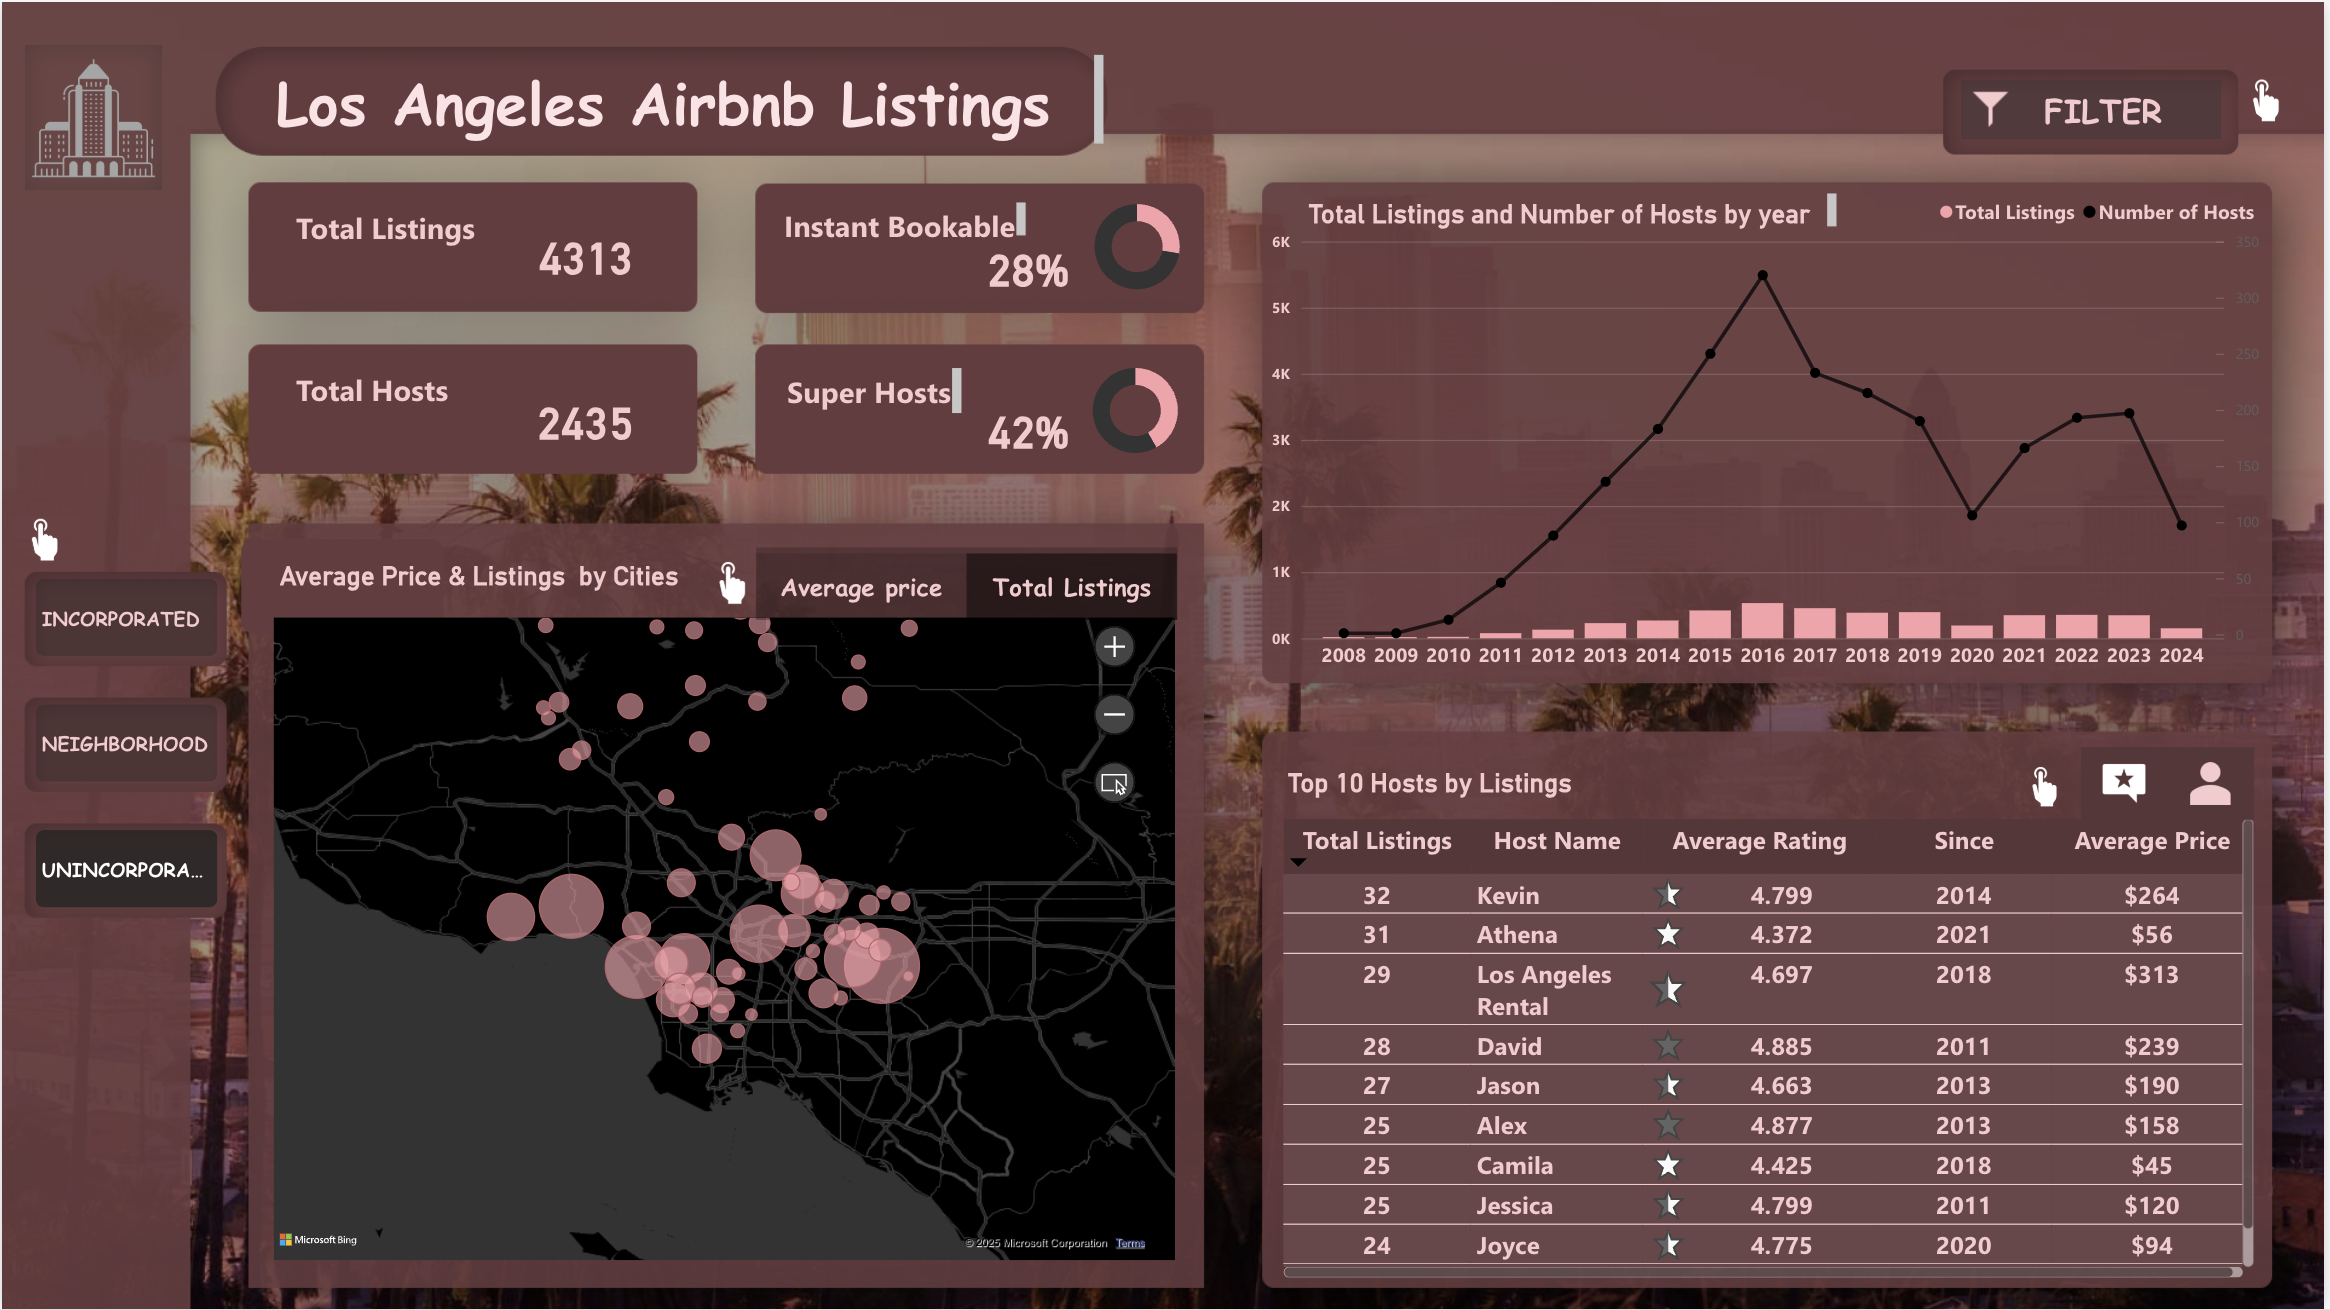

What the dashboard file says about the page in this screenshot:
{"tool":"powerbi","page":{"name":"Page 1","canvas":[1920,1080],"ordinal":0},"visuals":[{"type":"tableEx","fields":{"Values":["_Measures.Total Listings","listings.host_name","_Measures.Average Rating Score","_Measures.year_table","_Measures.Average price"]},"box":[1054,676,813,379],"z":0},{"type":"image","box":[1663,625,50,48],"z":1000},{"type":"actionButton","title":"FILTER with Listings","box":[1615,60,225,59],"z":2000},{"type":"card","fields":{"Values":["_Measures.Number of Super host"]},"box":[798,320,102,66],"z":3000},{"type":"card","fields":{"Values":["_Measures.Total Listings"]},"box":[432,176,102,66],"z":4000},{"type":"lineStackedColumnComboChart","title":"      Total Listings and Number of Hosts by year","fields":{"Category":["listings.year"],"Y":["_measure.Total Listings"],"Y2":["_measure.Number of Hosts"]},"box":[1044,152,828,410],"z":5000},{"type":"map","fields":{"Size":["_measure.Total Listings"],"Category":["listings.city","listings.latitude","listings.longitude"],"Y":["Avg(listings.latitude)"],"X":["Avg(listings.longitude)"]},"box":[225,509,745,531],"z":6000},{"type":"advancedSlicerVisual","fields":{"Values":["MAP parameter.MAP parameter"]},"box":[623,451,348.3,60],"z":7000},{"type":"image","title":"pink rating","box":[1718.6,615.7,71.4,60],"z":9000},{"type":"image","title":"pink host","box":[1790,615.7,71.4,60],"z":10000},{"type":"image","title":"White rating","box":[1718.6,615.7,71.4,60],"z":12000},{"type":"card","fields":{"Values":["Average Listings.Number of Hosts"]},"box":[432,312,102,66],"z":13000},{"type":"card","fields":{"Values":["Average Listings.% of instant bookable"]},"box":[798,186,102,66],"z":14000},{"type":"donutChart","fields":{"Y":["_measure.count of instant bookable","_measure.count of non-instant bookable"]},"box":[886,154,106,98],"z":15000},{"type":"donutChart","fields":{"Y":["_measure.count of super hosts","_measure.count of non-super hosts"]},"box":[884,288,106,98],"z":16000},{"type":"advancedSlicerVisual","fields":{"Values":["listings.Areas"]},"box":[21,472,162.5,282.5],"z":17000},{"type":"image","box":[19,36,113,120],"z":18000},{"type":"textbox","box":[222,38,694,85],"z":19000},{"type":"textbox","box":[238,162,168,68],"z":20000},{"type":"textbox","box":[238,296,148,68],"z":21000},{"type":"textbox","box":[642,160,210,42],"z":22000},{"type":"textbox","box":[644,298,154,48],"z":23000},{"type":"textbox","box":[1058,624,310,52],"z":24000},{"type":"textbox","box":[224,452,356,54],"z":26000},{"type":"textbox","box":[1042,154,480,42],"z":34000},{"type":"image","box":[579,455,50,50],"z":37000},{"type":"image","box":[1846,57,50,50],"z":38000},{"type":"image","box":[11,419,50,50],"z":39000}]}

Visuals, with their boxes in screenshot pixels (x1, y1, x2, y2), scaled from the page's 1920x1080 canvas onto the 2330x1310 screenshot:
tableEx - _Measures.Total Listings x listings.host_name: x1=1279 y1=820 x2=2266 y2=1280
image: x1=2018 y1=758 x2=2079 y2=816
"FILTER with Listings" actionButton: x1=1960 y1=73 x2=2233 y2=144
card - _Measures.Number of Super host: x1=968 y1=388 x2=1092 y2=468
card - _Measures.Total Listings: x1=524 y1=213 x2=648 y2=294
"      Total Listings and Number of Hosts by year" lineStackedColumnComboChart: x1=1267 y1=184 x2=2272 y2=682
map - _measure.Total Listings x listings.city: x1=273 y1=617 x2=1177 y2=1261
advancedSlicerVisual - MAP parameter.MAP parameter: x1=756 y1=547 x2=1179 y2=620
"pink rating" image: x1=2086 y1=747 x2=2172 y2=820
"pink host" image: x1=2172 y1=747 x2=2259 y2=820
"White rating" image: x1=2086 y1=747 x2=2172 y2=820
card - Average Listings.Number of Hosts: x1=524 y1=378 x2=648 y2=458
card - Average Listings.% of instant bookable: x1=968 y1=226 x2=1092 y2=306
donutChart - _measure.count of instant bookable x _measure.count of non-instant bookable: x1=1075 y1=187 x2=1204 y2=306
donutChart - _measure.count of super hosts x _measure.count of non-super hosts: x1=1073 y1=349 x2=1201 y2=468
advancedSlicerVisual - listings.Areas: x1=25 y1=573 x2=223 y2=915
image: x1=23 y1=44 x2=160 y2=189
textbox: x1=269 y1=46 x2=1112 y2=149
textbox: x1=289 y1=196 x2=493 y2=279
textbox: x1=289 y1=359 x2=468 y2=442
textbox: x1=779 y1=194 x2=1034 y2=245
textbox: x1=782 y1=361 x2=968 y2=420
textbox: x1=1284 y1=757 x2=1660 y2=820
textbox: x1=272 y1=548 x2=704 y2=614
textbox: x1=1265 y1=187 x2=1847 y2=238
image: x1=703 y1=552 x2=763 y2=613
image: x1=2240 y1=69 x2=2301 y2=130
image: x1=13 y1=508 x2=74 y2=569
